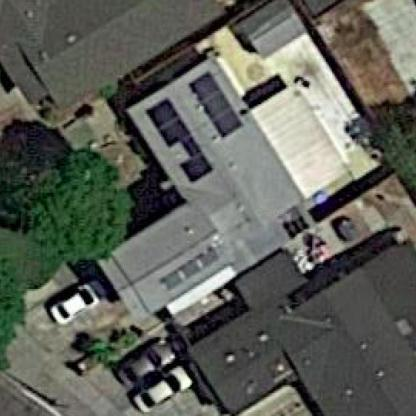car: (32, 272, 104, 325), (110, 334, 178, 385), (128, 367, 198, 404)
solar_panel: (134, 90, 214, 185), (183, 63, 253, 149)
